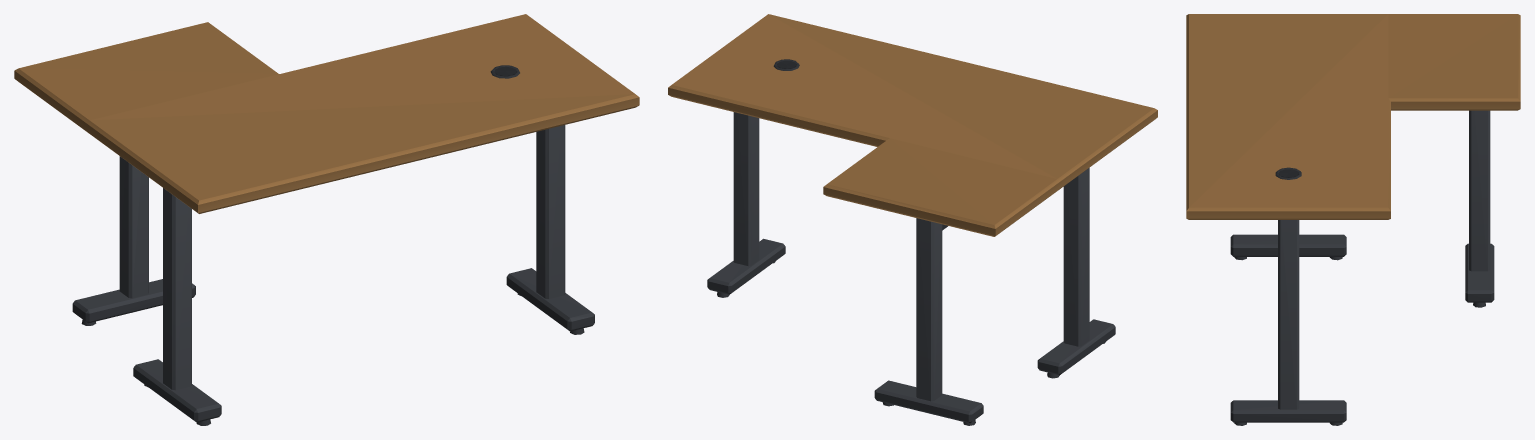
File: l_desk.glb
The picture shows the model from 3 angles, left to right: view 1: azimuth 30°, elevation 25°; view 2: azimuth 150°, elevation 25°; view 3: azimuth 270°, elevation 25°; orthographic projection. The views are drawn at different scales.
Visible parts, largest first — view 1: l_desk; view 2: l_desk; view 3: l_desk.
Boxes of the visible parts, x1,y1,x2,y2 form: l_desk: (14,14,639,425); l_desk: (668,14,1157,425); l_desk: (1186,14,1520,425).
Bounding box in the file's own units: 1.36 × 0.7445 × 0.98.
